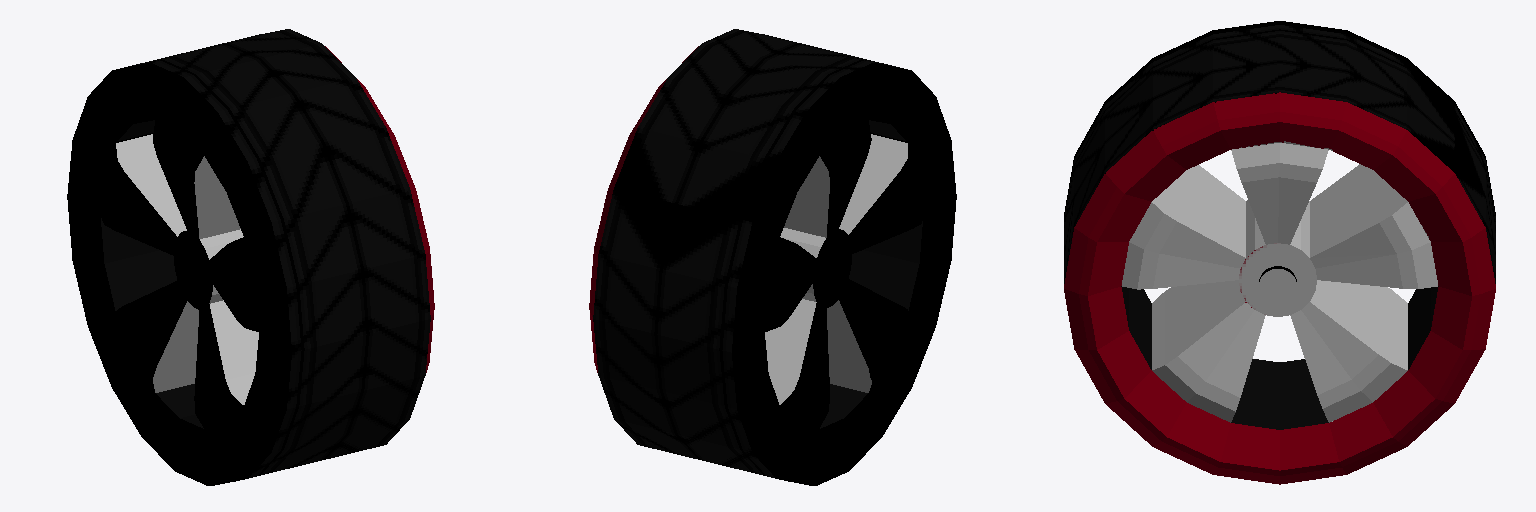
3 renders of one model, left to right at view 1: azimuth 30°, elevation 25°; view 2: azimuth 150°, elevation 25°; view 3: azimuth 270°, elevation 25°, orthographic.
Visible parts, largest first — view 1: Front_Left_Wheel; view 2: Front_Left_Wheel; view 3: Front_Left_Wheel.
Part boxes in pixels (bbox=[...]): Front_Left_Wheel: bbox=[67, 29, 434, 485]; Front_Left_Wheel: bbox=[589, 29, 956, 485]; Front_Left_Wheel: bbox=[1064, 21, 1495, 484].
Bounding box in the file's own units: 0.5821 × 1.32 × 1.32.
Materials: 1 (1 with a texture image).